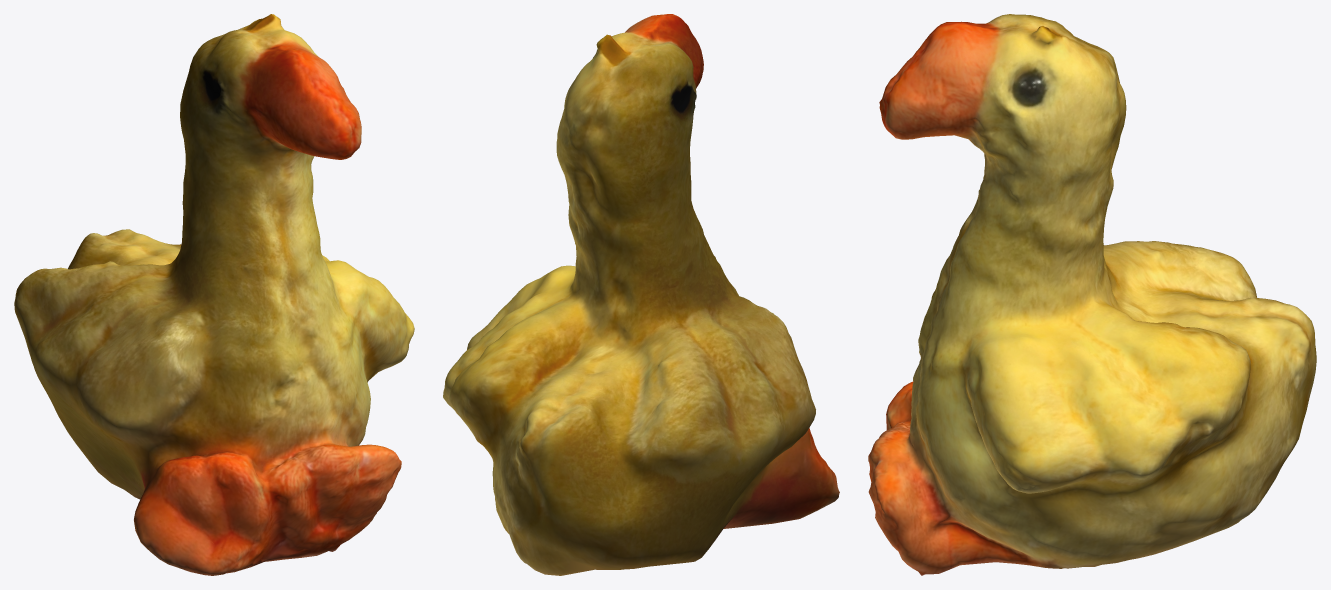
File: duck.obj
3 renders of one model, left to right at view 1: azimuth 30°, elevation 25°; view 2: azimuth 150°, elevation 25°; view 3: azimuth 270°, elevation 25°, orthographic. The views are drawn at different scales.
Visible parts, largest first — view 1: mesh_0; view 2: mesh_0; view 3: mesh_0.
Boxes of the visible parts, <box> form: mesh_0: <box>14,14,414,575</box>; mesh_0: <box>443,14,839,575</box>; mesh_0: <box>868,14,1316,575</box>.
Size of the model in its own units: 0.0926 by 0.1328 by 0.0989.
Materials: 1 (1 with a texture image).
